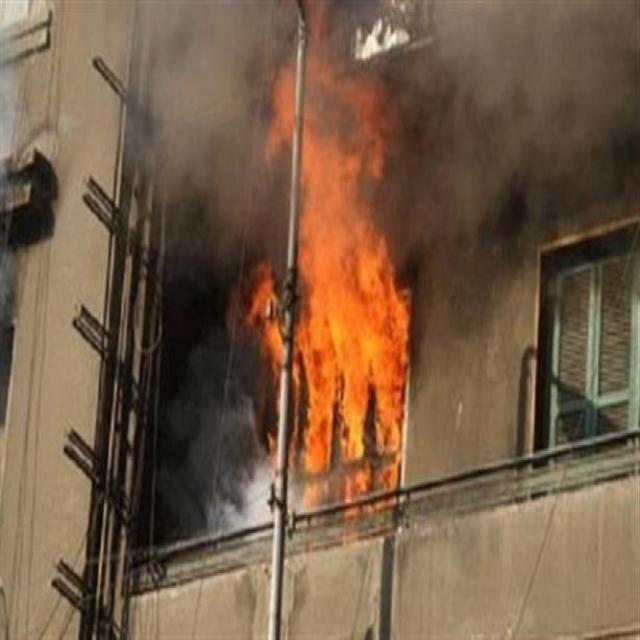Fire: (276, 48, 411, 485)
Smoke: (150, 74, 273, 580), (447, 37, 640, 257)
